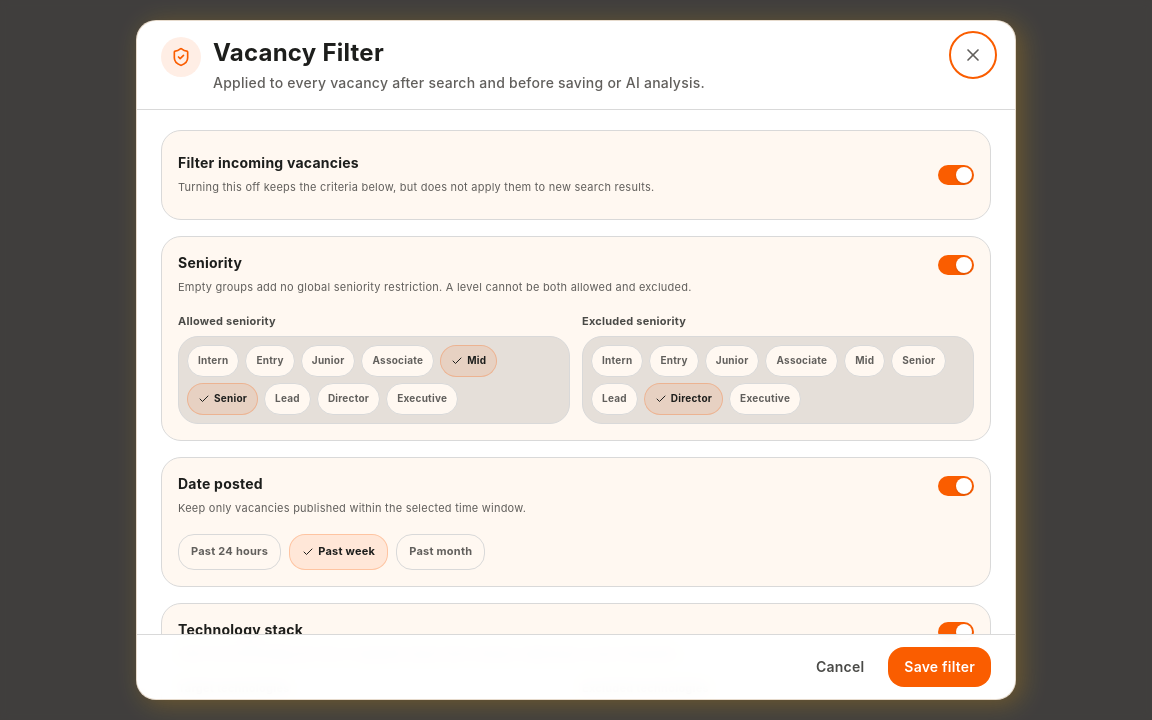
shows FastAPI validation details when saving fails
Expected: the switch labelled "Filter incoming vacancies" is shown, [178, 147, 974, 203]
What coordinates should you click on to do the following:
click the button "Save filter"
I would click on:
 (940, 667)
Its box is [888, 647, 991, 687].
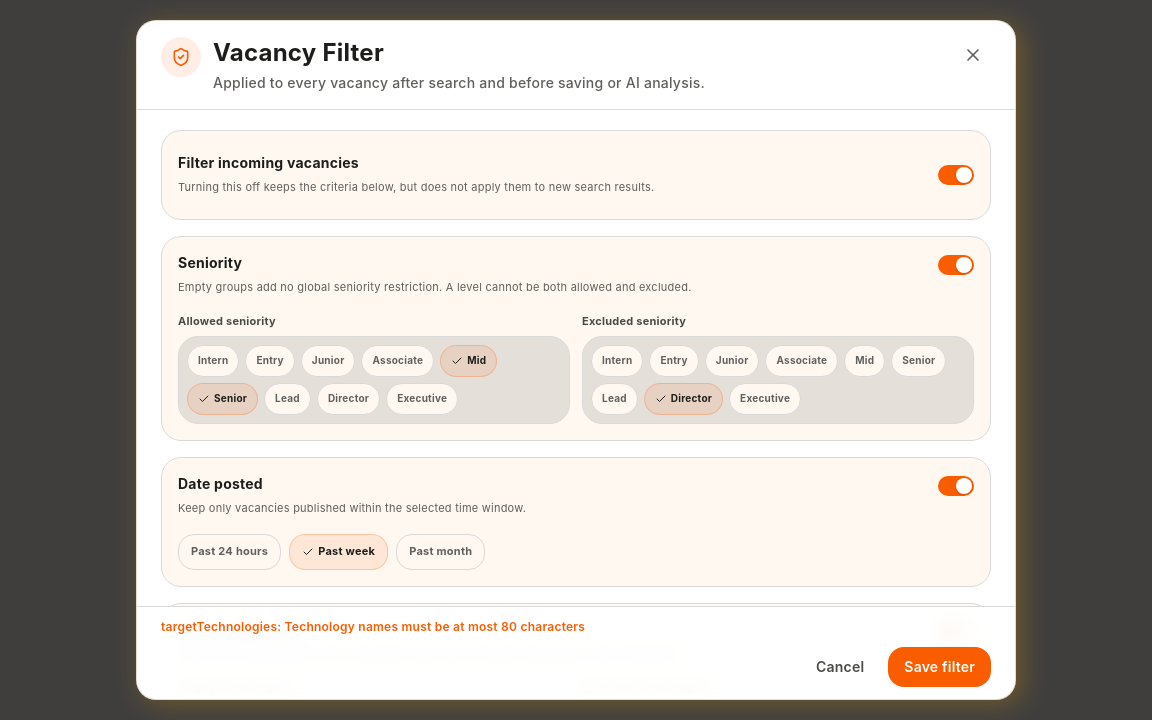
Expected: the message shows "Technology names must be at most 80 characters", [161, 619, 585, 634]
